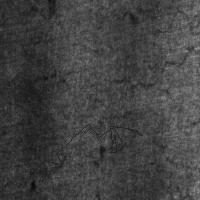crazing: (96, 9, 192, 89), (24, 124, 142, 177)
